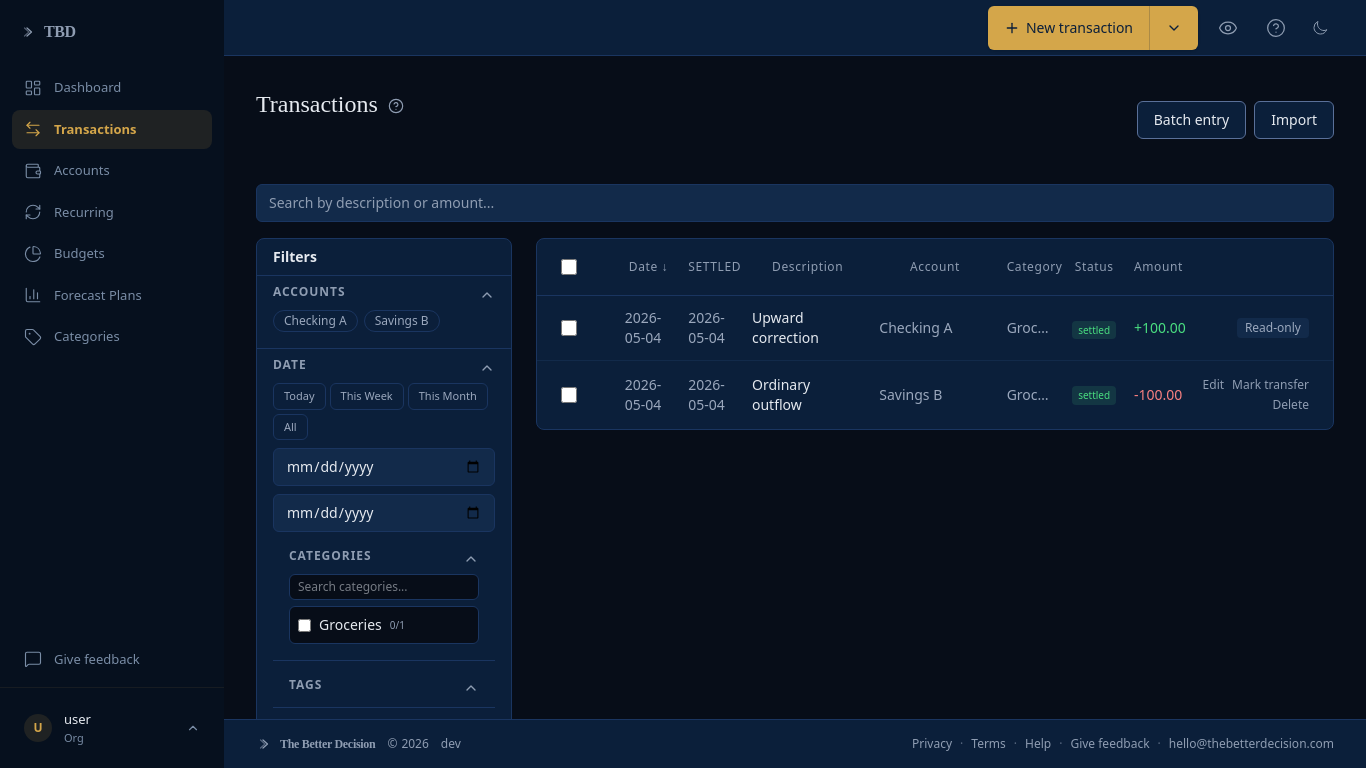
TBD-387 — manual balance adjustment affordances › F7: bulk Link-as-transfer refuses an adjustment, with a reason
The width and height of the screenshot is (1366, 768).
Click the checkbox named "Select transaction 9301".
click(569, 328)  # box [561,320,577,336]
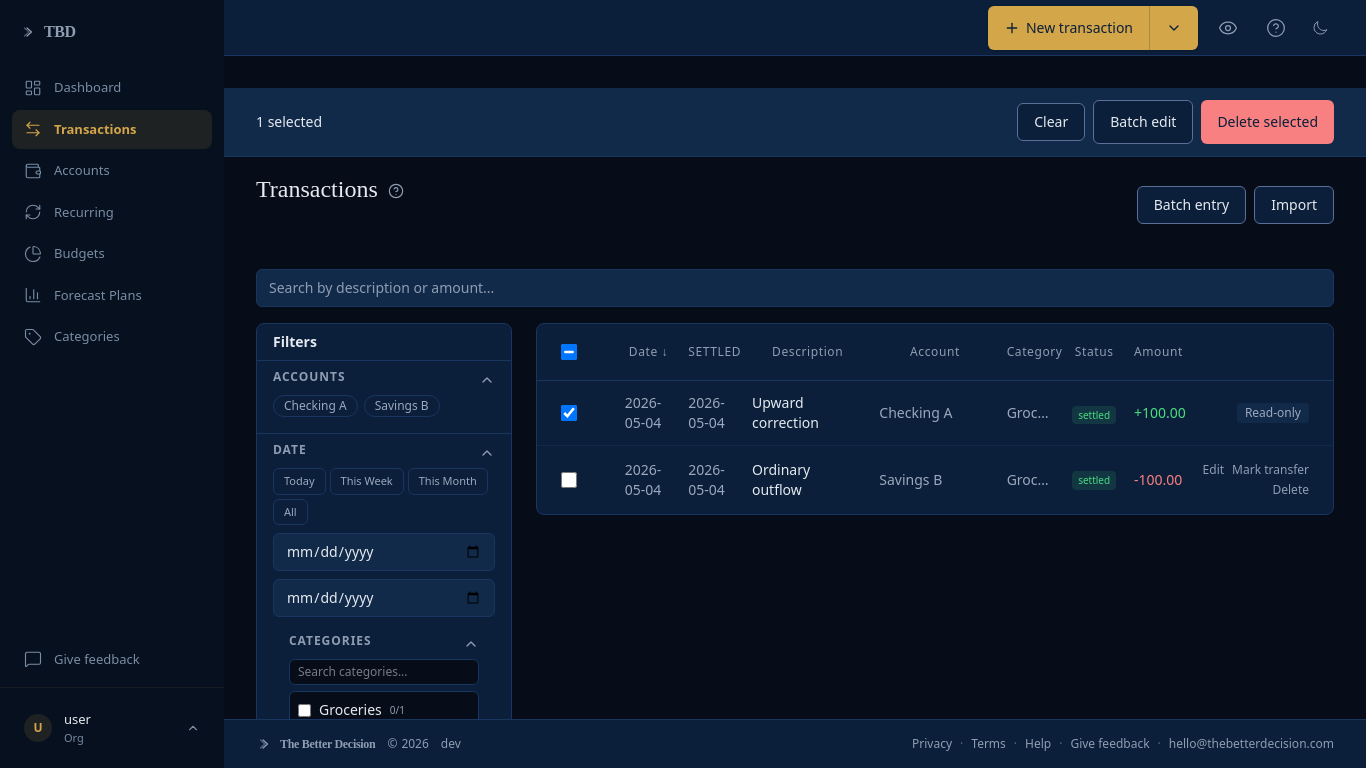
Click the checkbox named "Select transaction 9302".
click(569, 480)  # box [561,472,577,488]
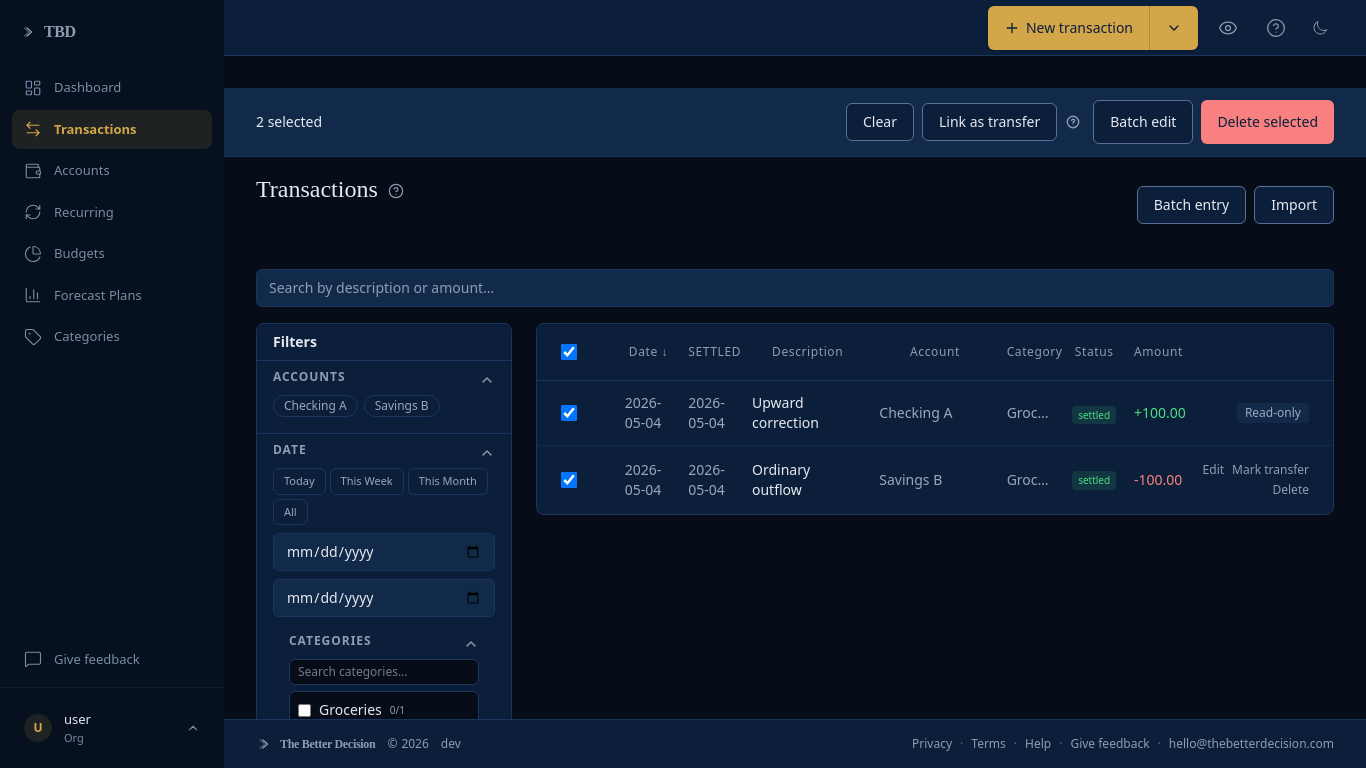
Expected: the button "Link as transfer" is disabled, [922,103,1057,141]
